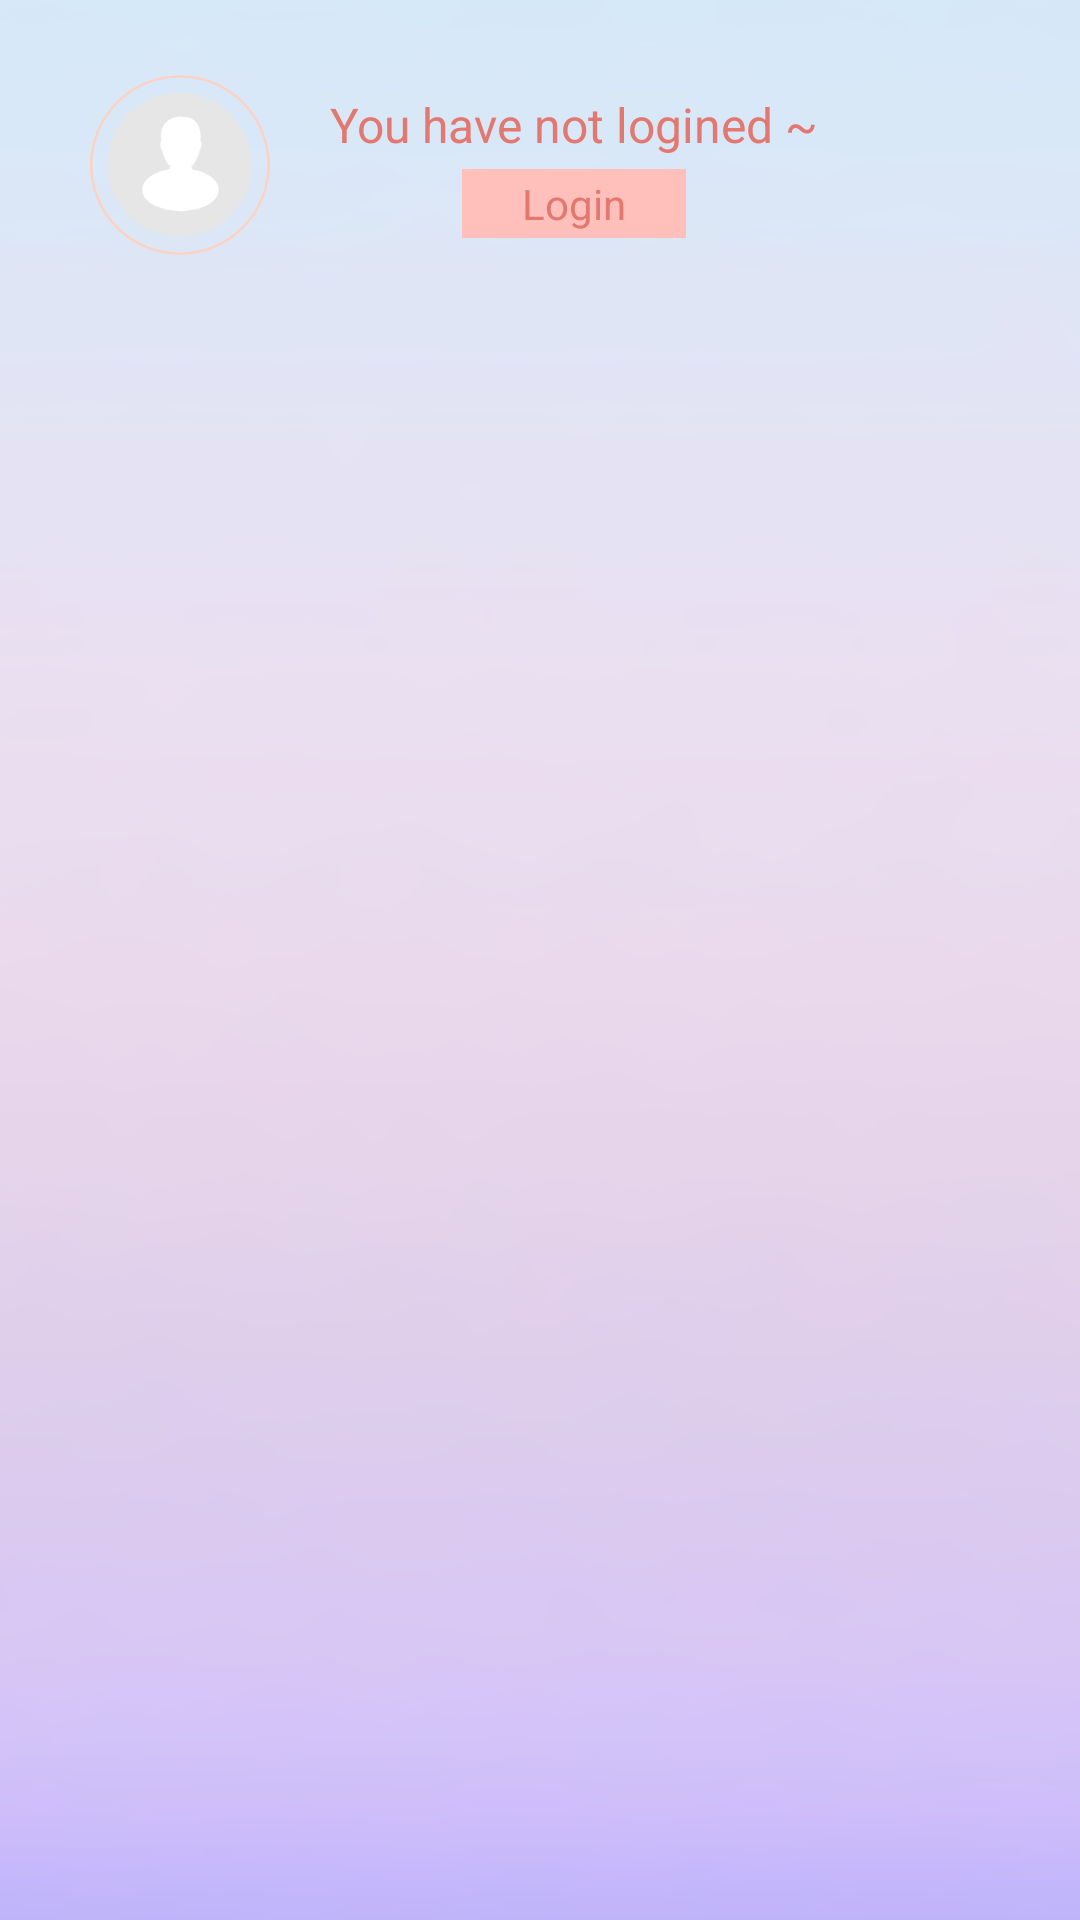

Icon click points for this 1080w x 1920h phone screenshot, format [x,y]:
head: [180,165]
